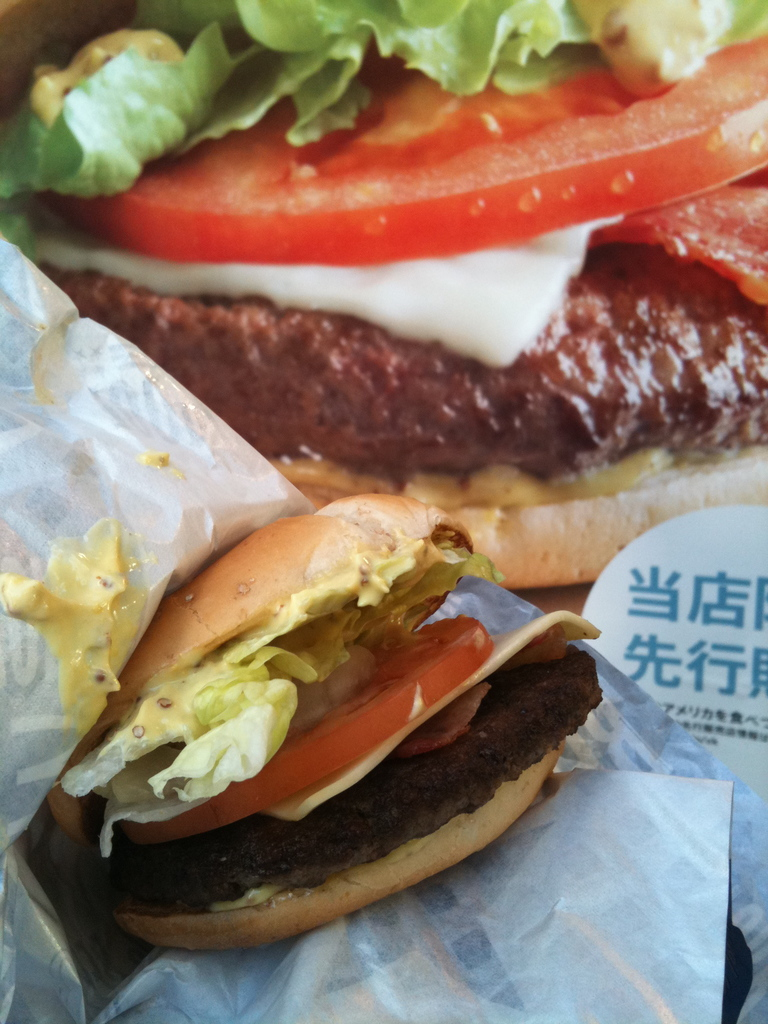sandwich: (0, 0, 767, 588), (36, 493, 603, 951)
